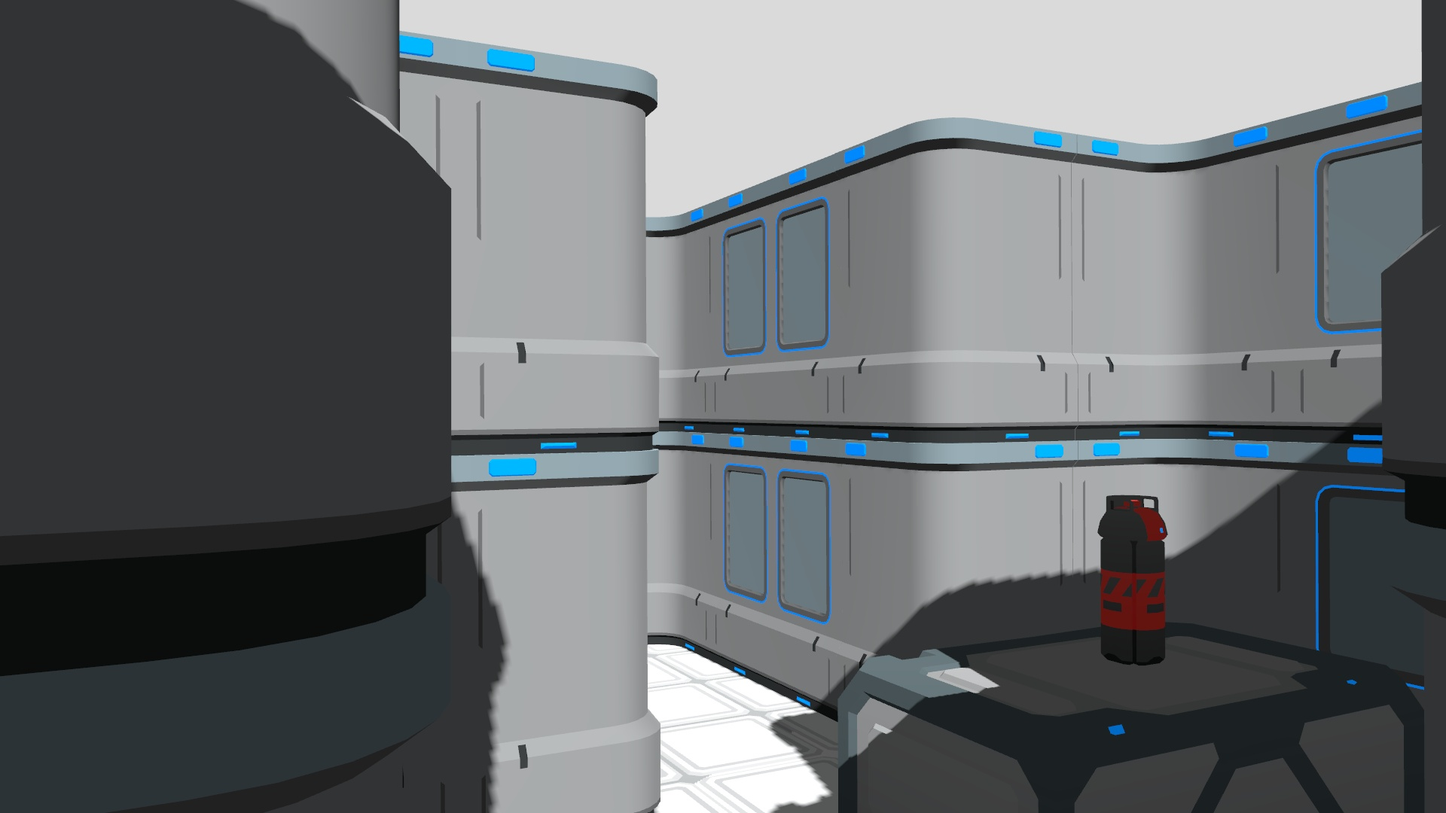red_barrel: (1096, 489, 1171, 672)
